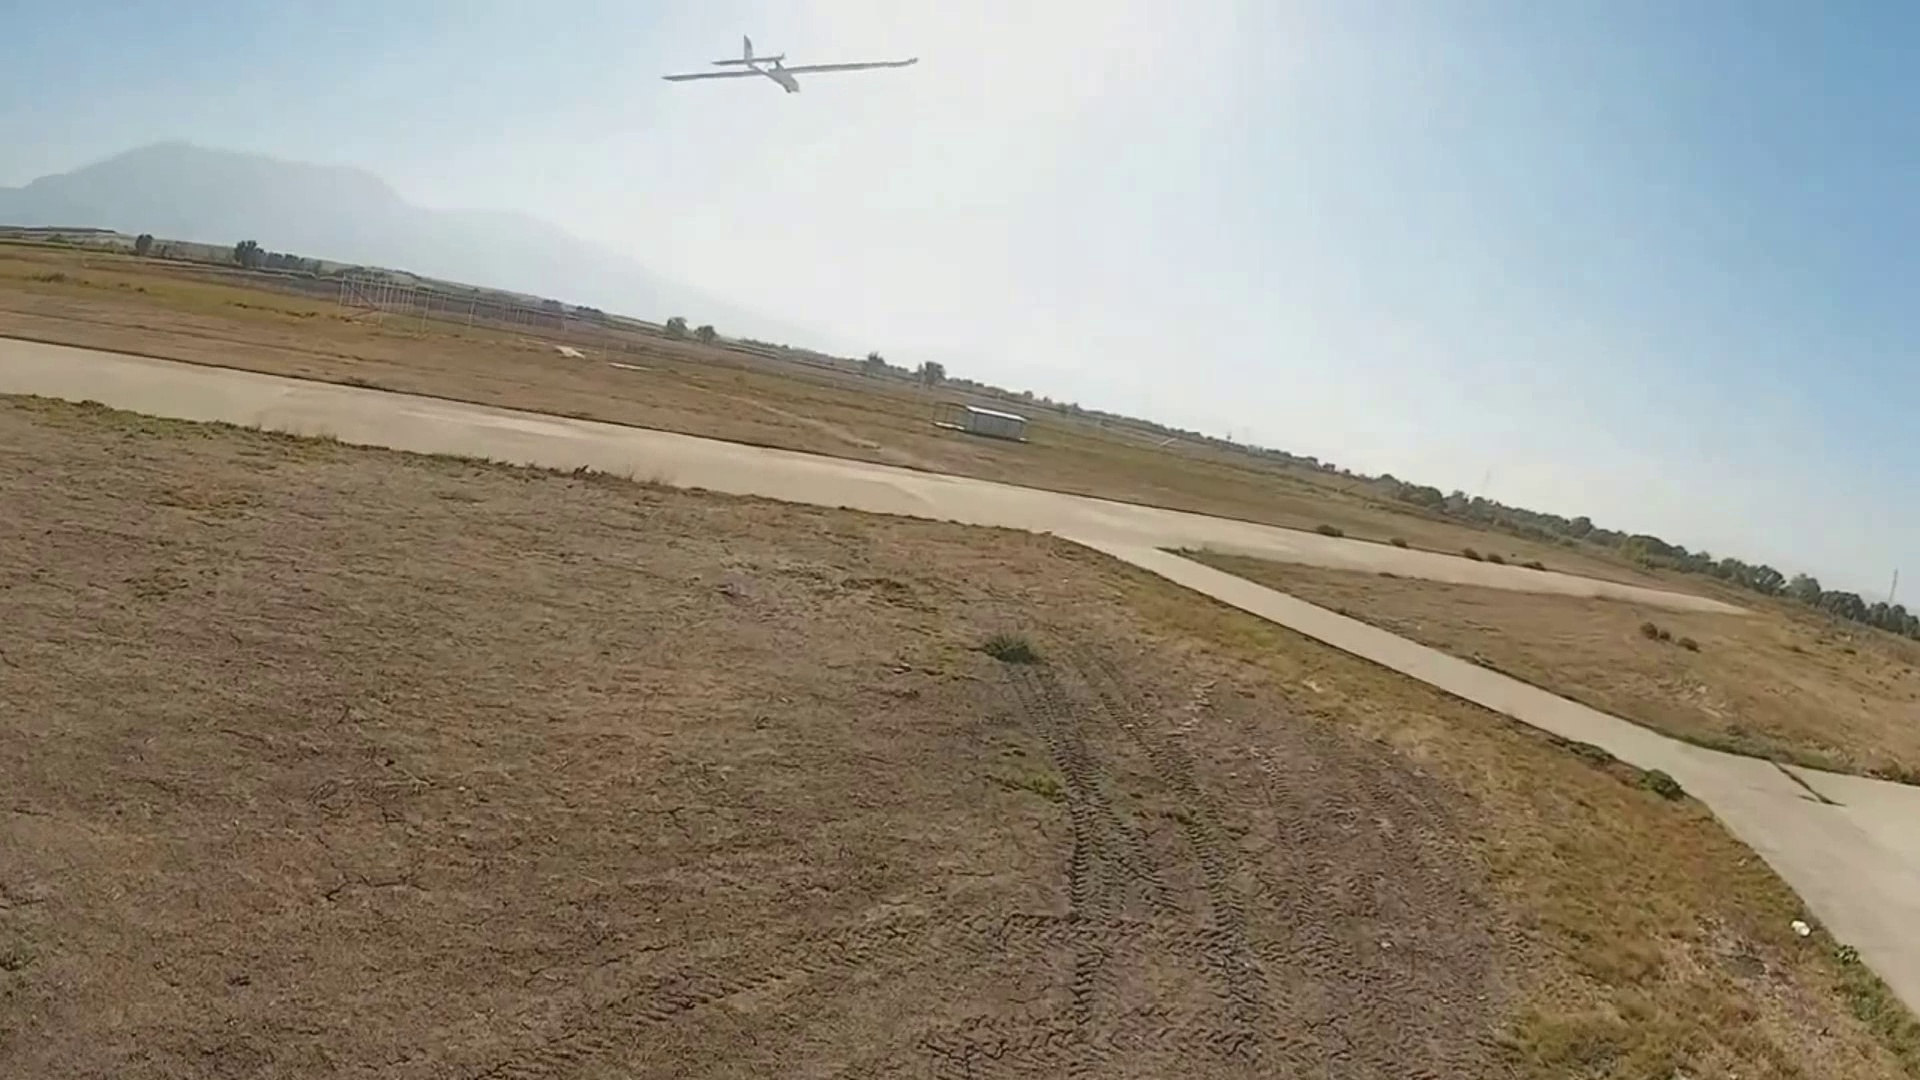airplane: (661, 36, 920, 94)
